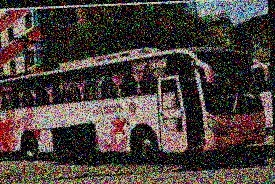bus: (0, 40, 269, 170)
